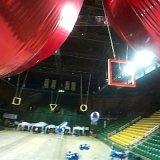Orange_Square_GShape: (108, 58, 136, 87)
Purple_Balloon: (90, 111, 99, 122)
Yellow_Circle_GShape: (80, 104, 88, 111)
Yellow_Square_GShape: (13, 97, 22, 106)
Yellow_Triangle_Gshape: (49, 104, 57, 112)
